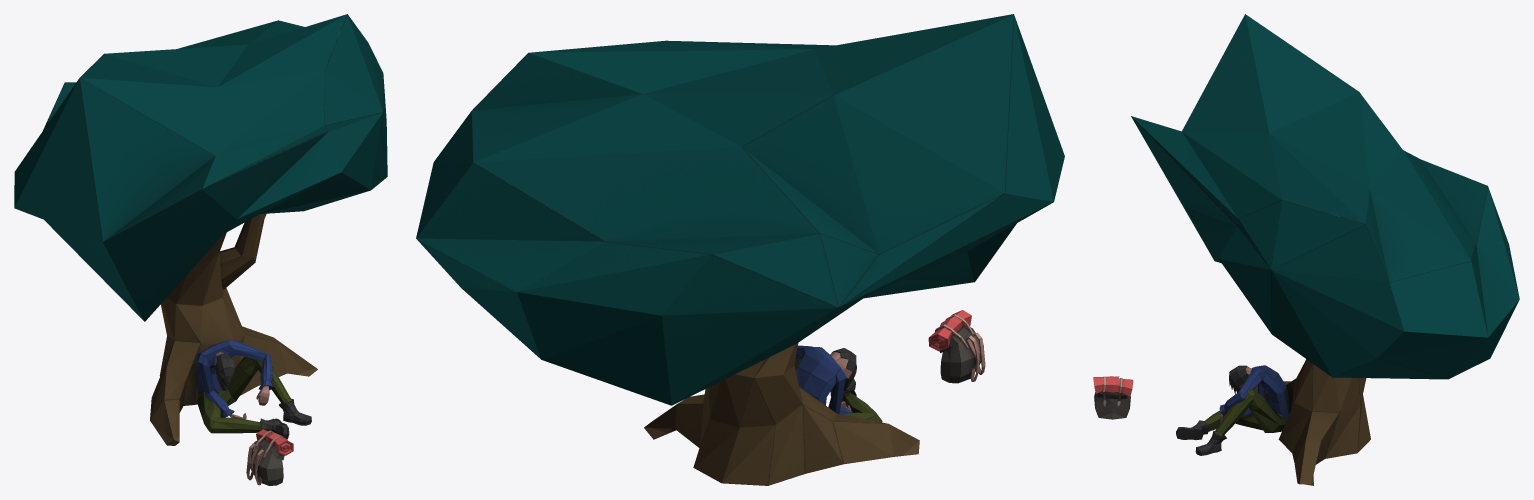
Rendered from tree.fbx.
3 renders of one model, left to right at view 1: azimuth 30°, elevation 25°; view 2: azimuth 150°, elevation 25°; view 3: azimuth 270°, elevation 25°, orthographic. The views are drawn at different scales.
Parts seen in each view (by area): view 1: Box008; view 2: Box008; view 3: Box008.
Part boxes in pixels (x1,y1,x2,y2): Box008: (14,14,387,485); Box008: (416,14,1064,485); Box008: (1093,14,1519,485).
Bounding box in the file's own units: 158 × 133 × 144.
